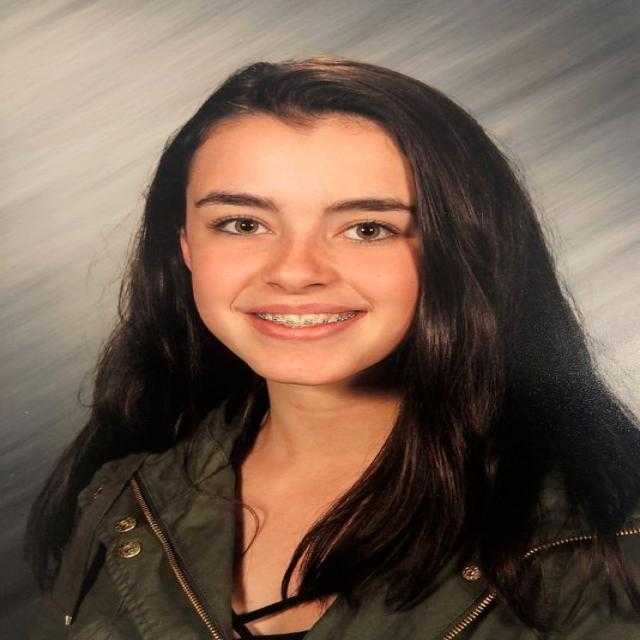mobile_phonerotation: (22, 55, 638, 637)
